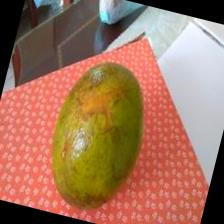Orange Rotten: (28, 48, 181, 224)
